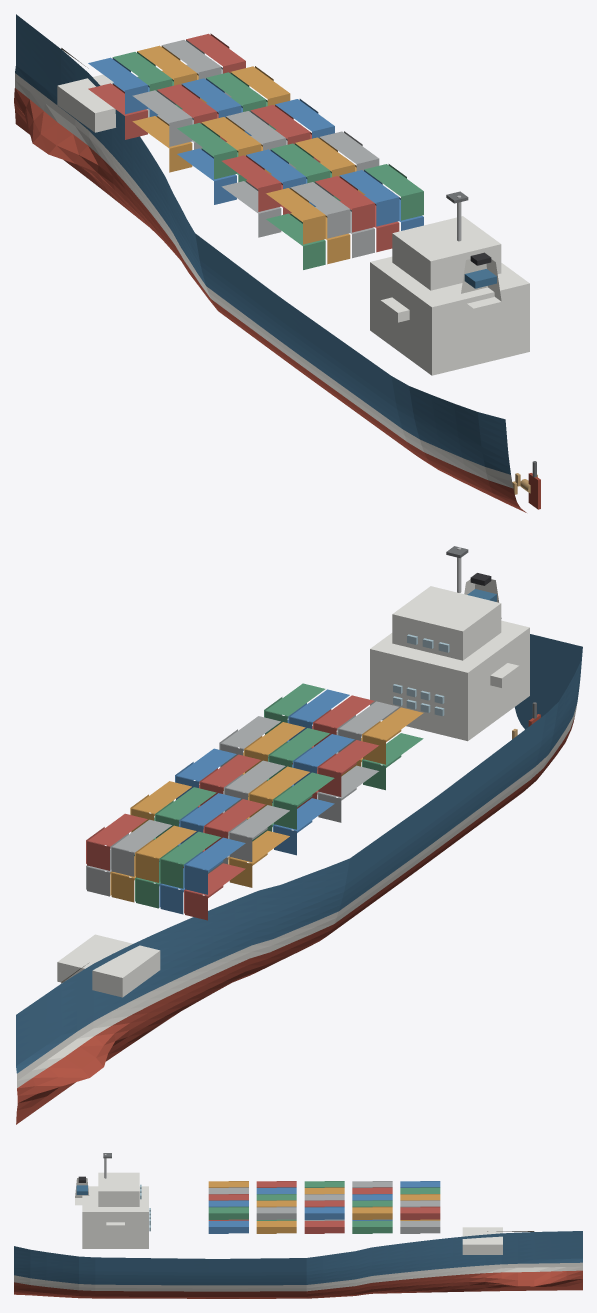
File: cargo_lod1.glb
3 renders of one model, top to bottom at view 1: azimuth 30°, elevation 25°; view 2: azimuth 150°, elevation 25°; view 3: azimuth 270°, elevation 25°, orthographic. The views are drawn at different scales.
Parts seen in each view (by area): view 1: ship; view 2: ship; view 3: ship.
Part boxes in pixels (x1,y1,x2,y2): ship: (14,14,540,512); ship: (16,546,582,1124); ship: (14,1153,582,1298).
Bounding box in the file's own units: 0.6634 × 1.06 × 3.92.
